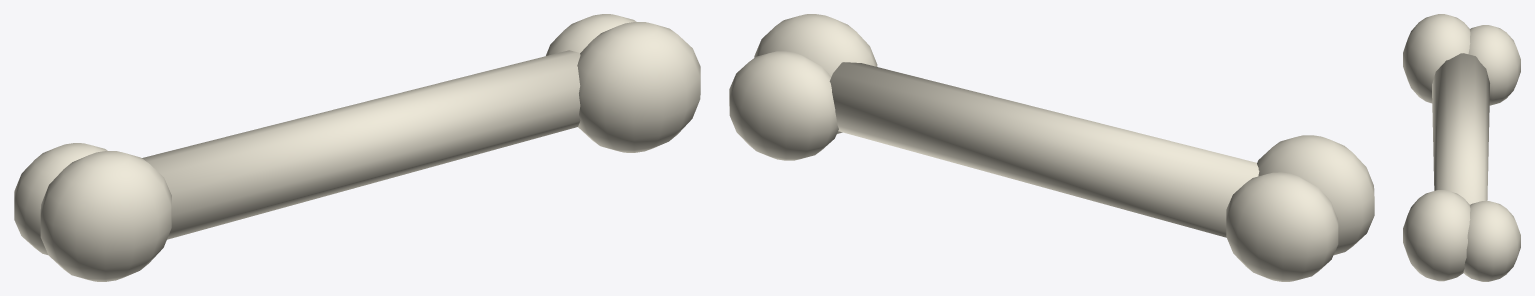
Rendered from bone.glb.
3 renders of one model, left to right at view 1: azimuth 30°, elevation 25°; view 2: azimuth 150°, elevation 25°; view 3: azimuth 270°, elevation 25°, orthographic. The views are drawn at different scales.
Visible parts, largest first — view 1: bone_shaft, bone_left_knob_a, bone_right_knob_a, bone_left_knob_b, bone_right_knob_b; view 2: bone_shaft, bone_left_knob_b, bone_right_knob_b, bone_left_knob_a, bone_right_knob_a; view 3: bone_shaft, bone_right_knob_a, bone_right_knob_b, bone_left_knob_a, bone_left_knob_b.
Part boxes in pixels (left/top/right/bottom): bone_shaft: left=142, top=50, right=580, bottom=239; bone_left_knob_a: left=40, top=151, right=171, bottom=281; bone_right_knob_a: left=577, top=22, right=700, bottom=152; bone_left_knob_b: left=14, top=143, right=107, bottom=254; bone_right_knob_b: left=546, top=14, right=636, bottom=55; bone_shaft: left=829, top=62, right=1259, bottom=237; bone_left_knob_b: left=1226, top=172, right=1338, bottom=281; bone_right_knob_b: left=729, top=51, right=838, bottom=160; bone_left_knob_a: left=1257, top=135, right=1374, bottom=255; bone_right_knob_a: left=754, top=14, right=877, bottom=133; bone_shaft: left=1432, top=53, right=1489, bottom=204; bone_right_knob_a: left=1403, top=190, right=1470, bottom=281; bone_right_knob_b: left=1463, top=201, right=1520, bottom=281; bone_left_knob_a: left=1403, top=14, right=1470, bottom=103; bone_left_knob_b: left=1468, top=25, right=1520, bottom=105.
Bounding box in the file's own units: 0.784 × 0.142 × 0.1813.
